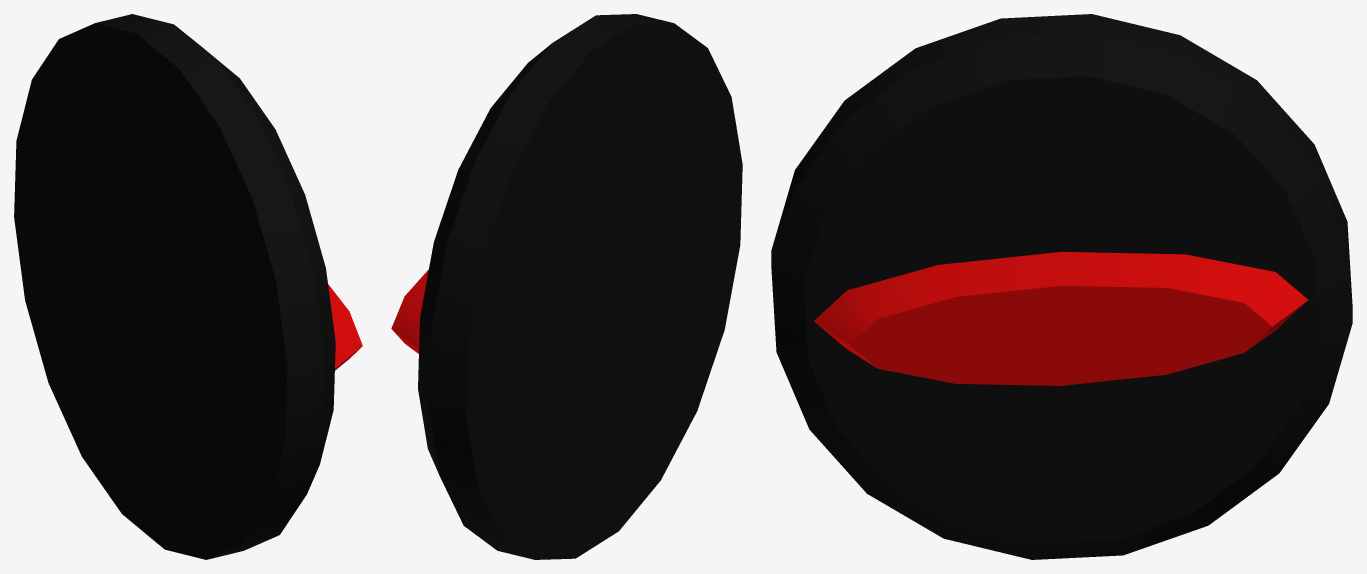
Rendered from StoveKnob_f1cb3f80.obj.
3 views of the same model, side by side, from view 1: azimuth 30°, elevation 25°; view 2: azimuth 150°, elevation 25°; view 3: azimuth 270°, elevation 25° (orthographic). The views are drawn at different scales.
Visible parts, largest first — view 1: StoveKnobTurn2_5e4323f9; view 2: StoveKnobTurn2_5e4323f9; view 3: StoveKnobTurn2_5e4323f9.
Boxes of the visible parts, left/top/right/bottom form: StoveKnobTurn2_5e4323f9: left=14, top=14, right=362, bottom=559; StoveKnobTurn2_5e4323f9: left=391, top=14, right=742, bottom=559; StoveKnobTurn2_5e4323f9: left=771, top=14, right=1352, bottom=559.
Size of the model in its own units: 0.0133 by 0.0558 by 0.0558.
